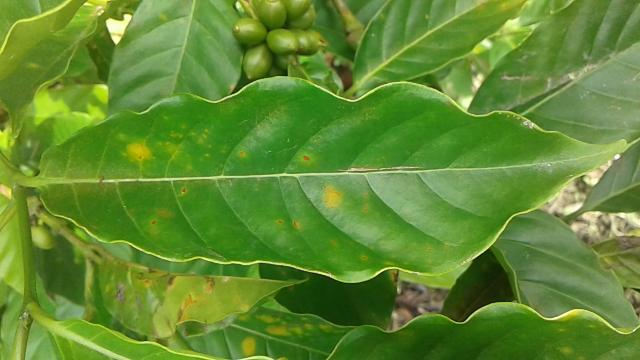rust_level_1: (32, 70, 634, 287)
